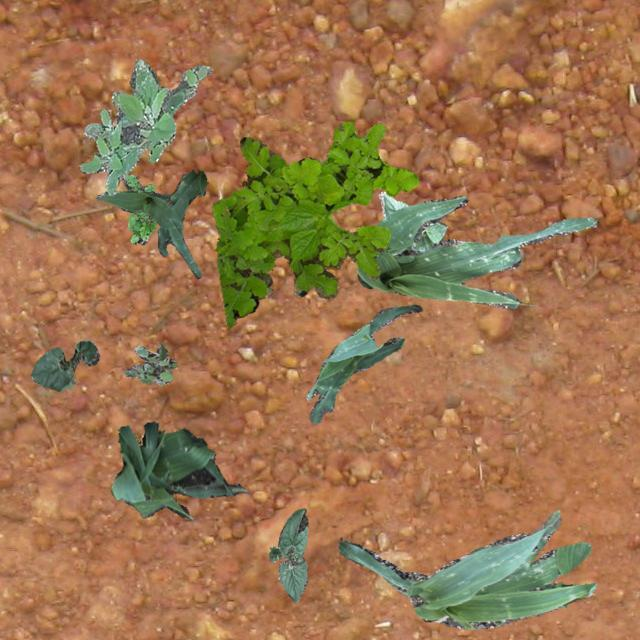crop: (338, 508, 594, 630), (356, 195, 596, 308), (304, 304, 420, 422), (110, 422, 248, 518), (95, 168, 206, 278), (378, 190, 447, 250), (268, 508, 308, 602), (30, 338, 99, 391)
weed: (212, 120, 418, 328), (78, 59, 212, 194), (120, 174, 154, 244), (122, 342, 176, 384)
